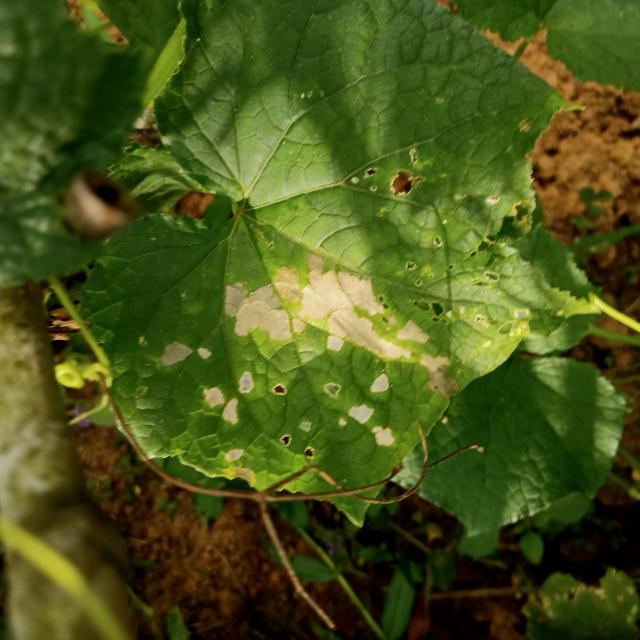disease_cucumber: (160, 251, 463, 482)
